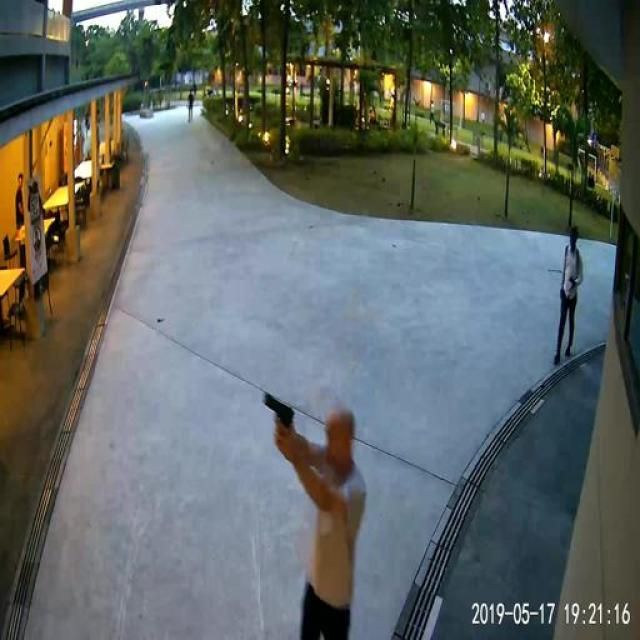Gun: (256, 378, 306, 442)
